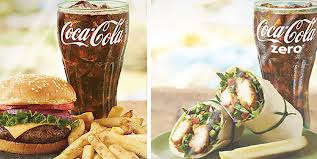coke: (53, 3, 145, 132)
